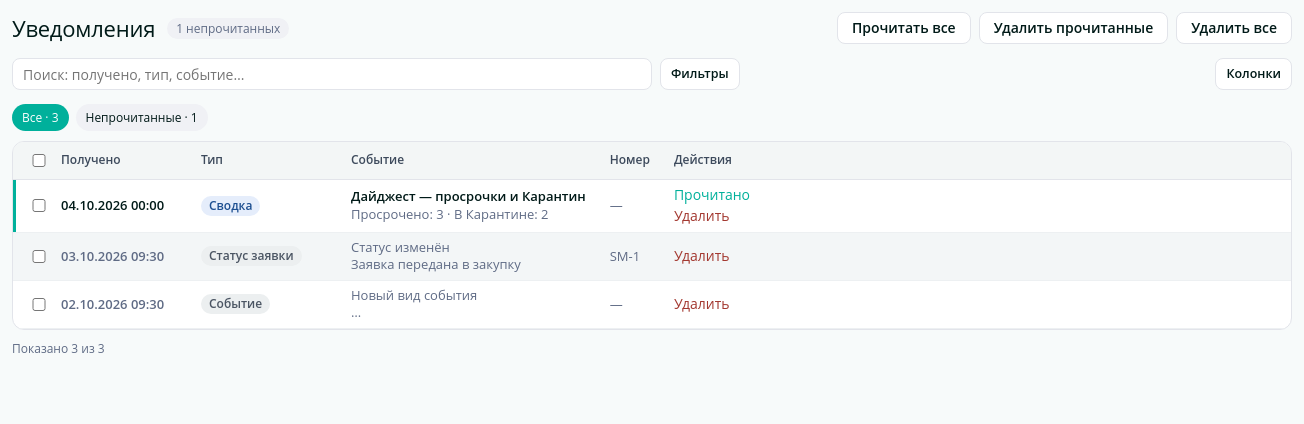
Scenario: deletes the selected rows in one request
Expected: the text "Статус изменён" is shown, x1=351 y1=238 x2=450 y2=256
Click the checkbox named "Выбрать 10000000-0000-0000-0000-000000000001". click: (39, 206)
box: x1=29 y1=199 x2=49 y2=212
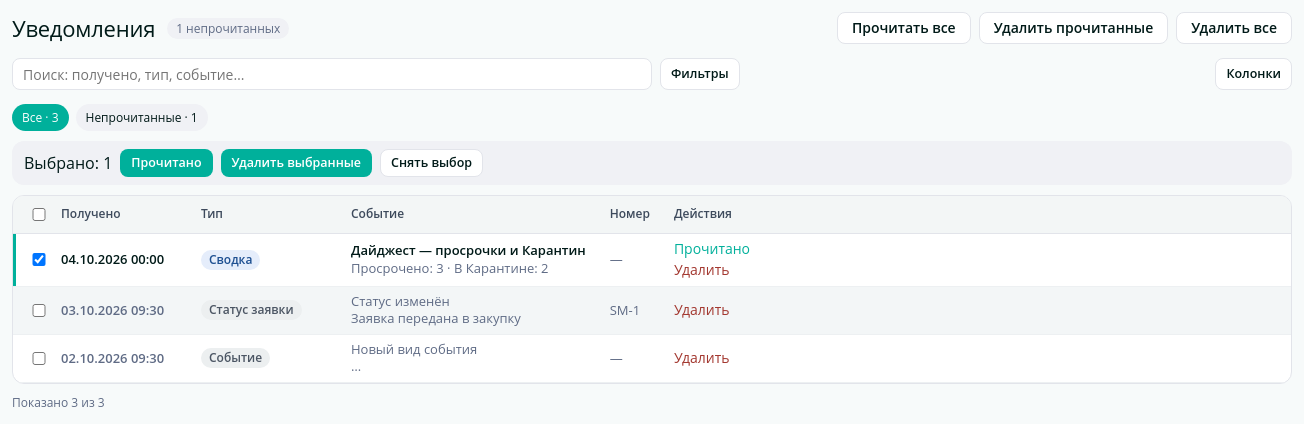
Click the checkbox named "Выбрать 10000000-0000-0000-0000-000000000003". click: (39, 358)
box: x1=29 y1=352 x2=49 y2=365
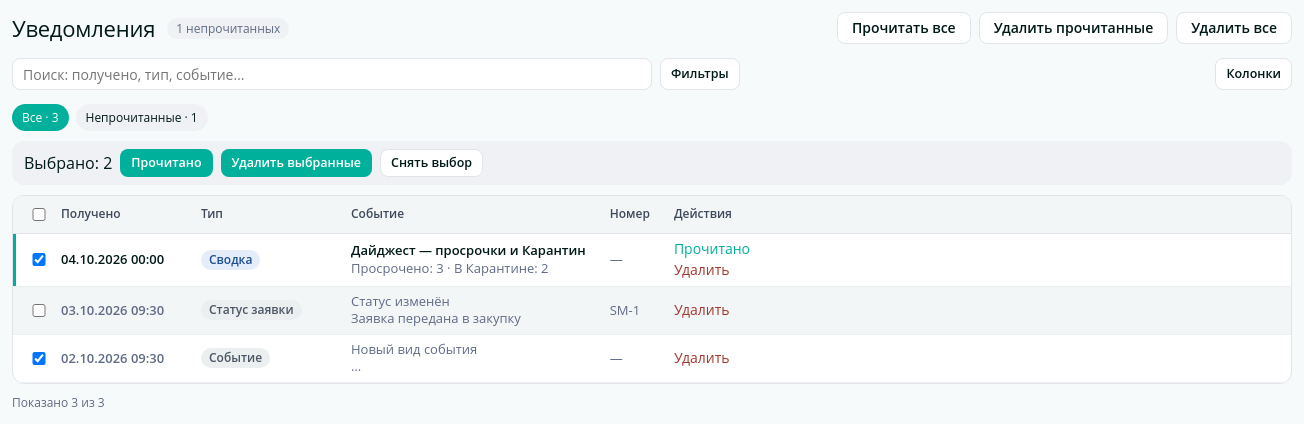
Click the button "Удалить выбранные". click: (296, 163)
box: x1=220 y1=149 x2=372 y2=177
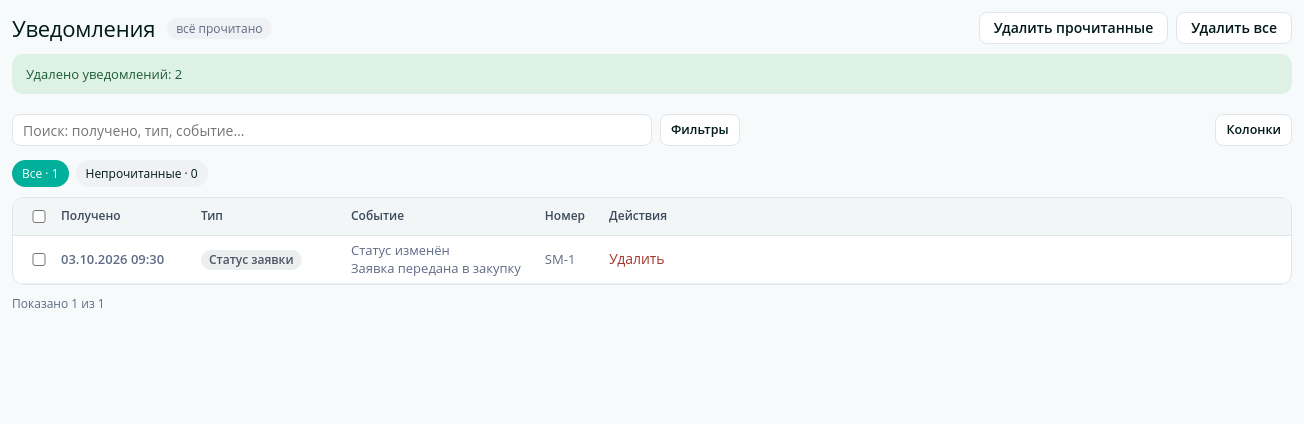
Expected: the text "Статус изменён" is shown, x1=351 y1=241 x2=450 y2=259
Expected: the text "Новый вид события" is gone
